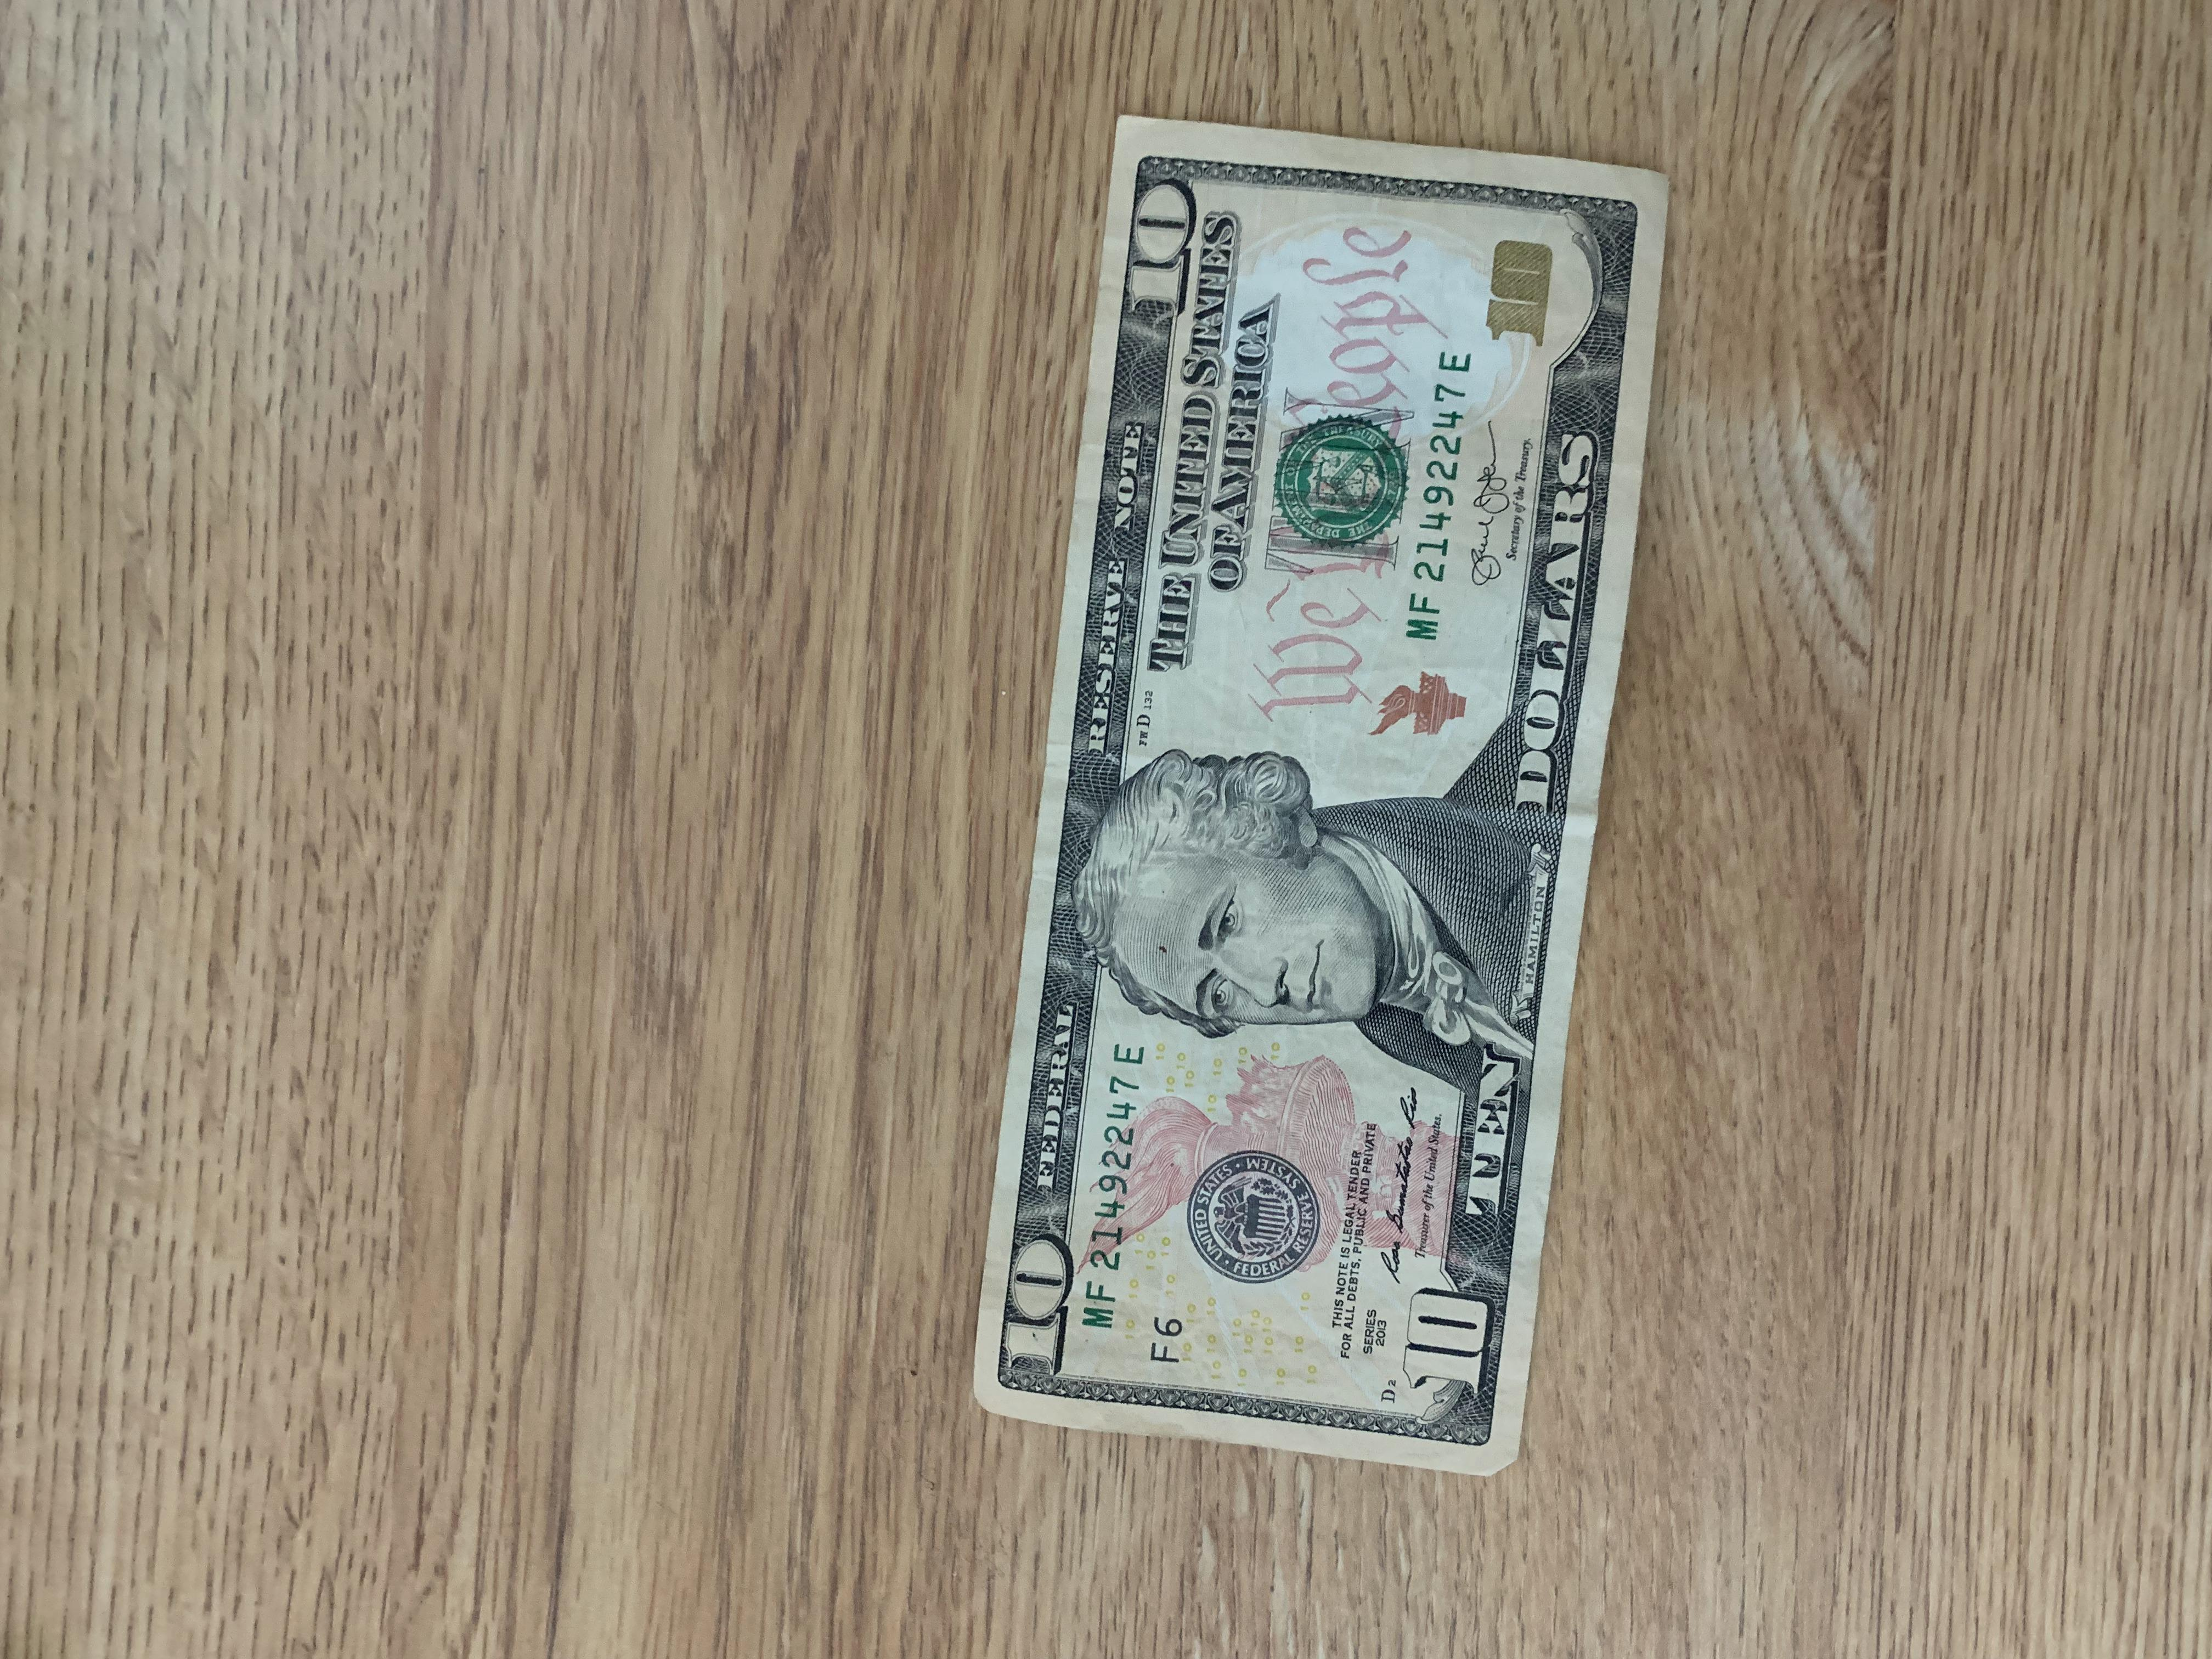TenBill: (970, 80, 1670, 1485)
